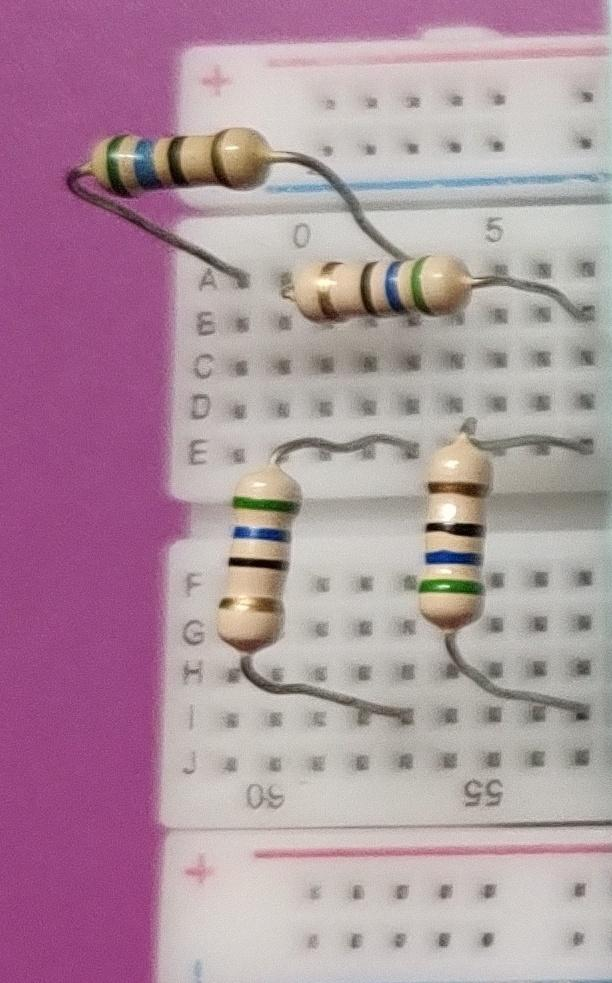resistor: (401, 425, 500, 658), (205, 453, 301, 665), (83, 117, 272, 207), (283, 249, 508, 323)
